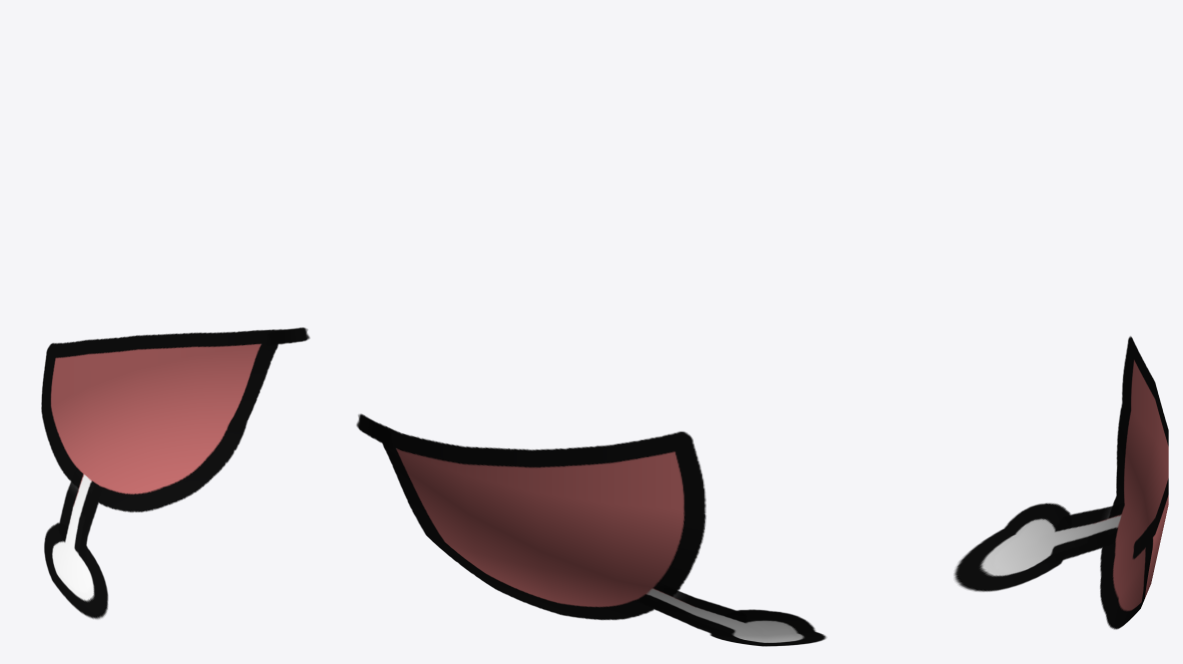
File: 02-Dizzy-Droll-Face-mouth.glb
3 renders of one model, left to right at view 1: azimuth 30°, elevation 25°; view 2: azimuth 150°, elevation 25°; view 3: azimuth 270°, elevation 25°, orthographic. The views are drawn at different scales.
Visible parts, largest first — view 1: 02-Dizzy-Droll-Face-mouth; view 2: 02-Dizzy-Droll-Face-mouth; view 3: 02-Dizzy-Droll-Face-mouth.
Boxes of the visible parts, bbox=[...] form: 02-Dizzy-Droll-Face-mouth: bbox=[41, 327, 309, 619]; 02-Dizzy-Droll-Face-mouth: bbox=[356, 414, 826, 646]; 02-Dizzy-Droll-Face-mouth: bbox=[954, 336, 1168, 629].
Bounding box in the file's own units: 0.5978 × 0.8443 × 0.3539.
1 material, 1 textured.
